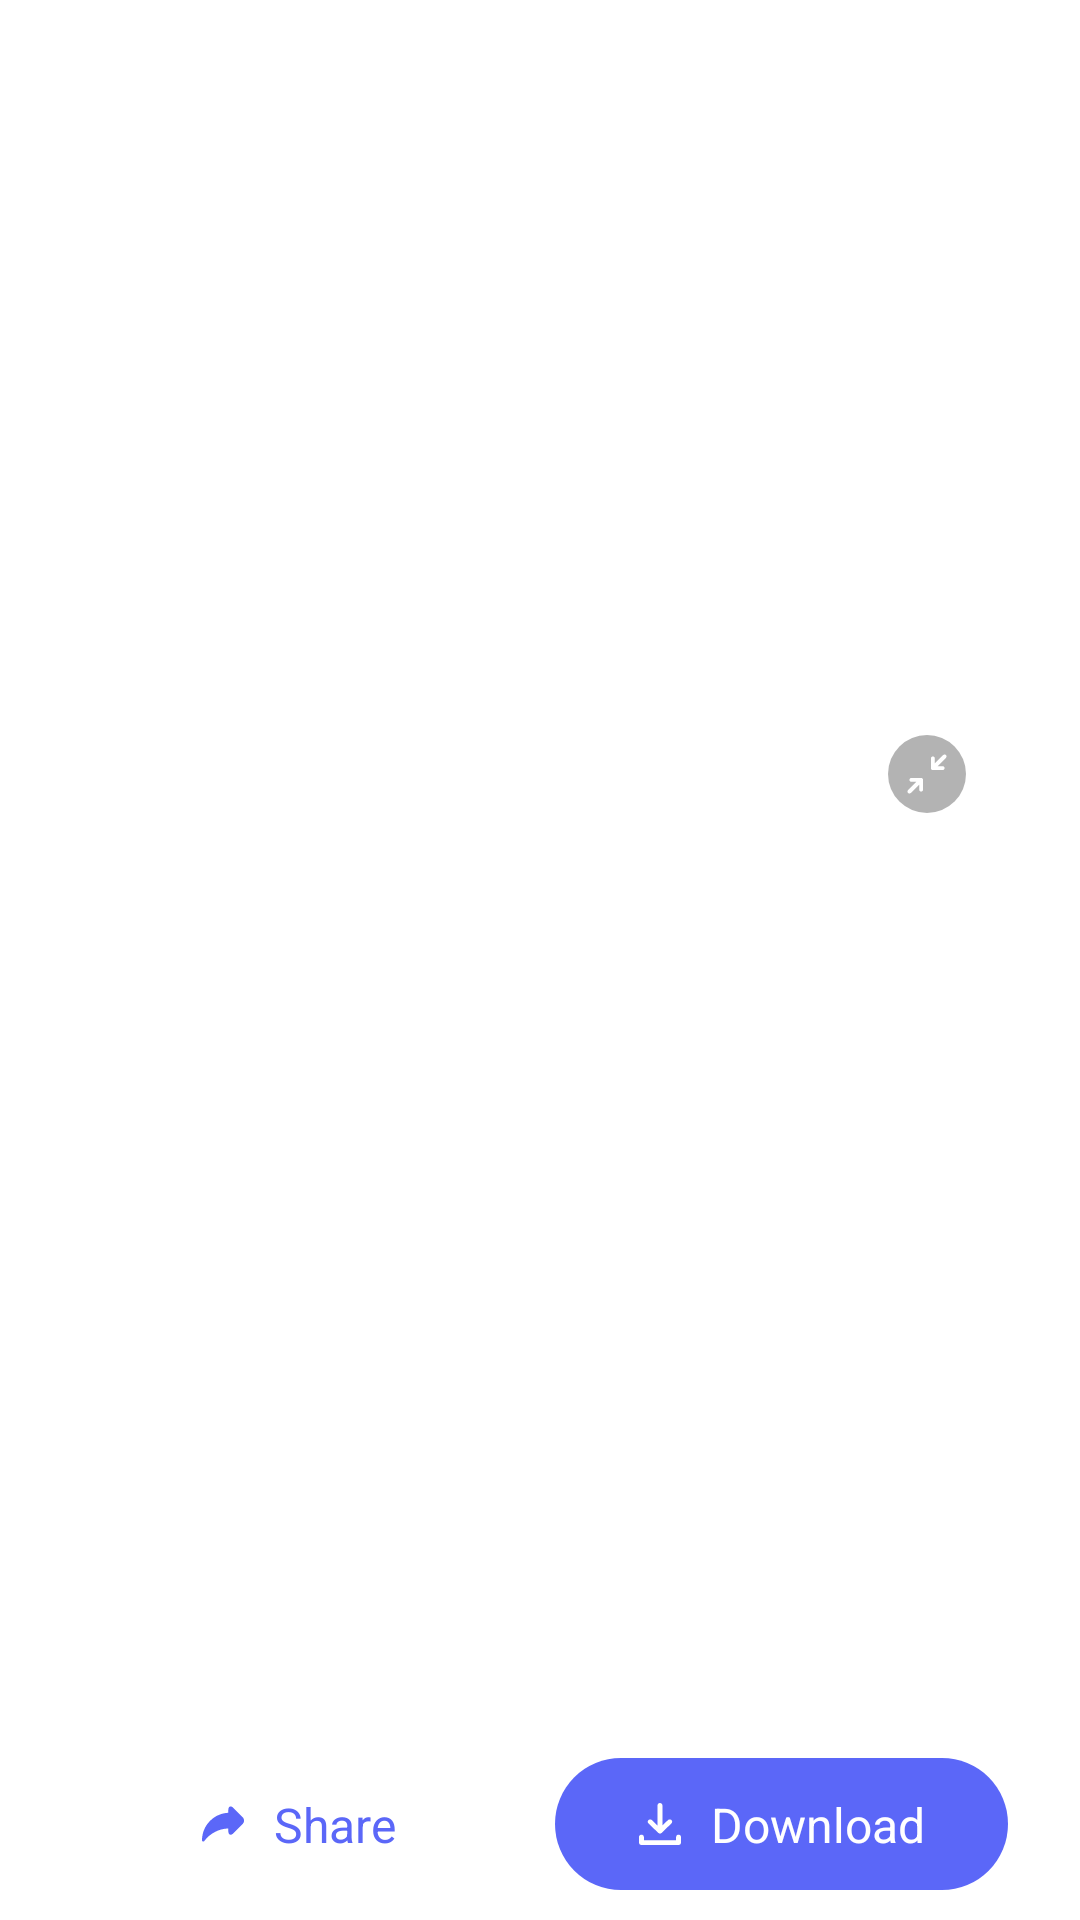

Locate icon controls on the screen. Image size 1080×1920, boxes as (x1, y1, x2, y2).
zoom out: (888, 735, 966, 813)
